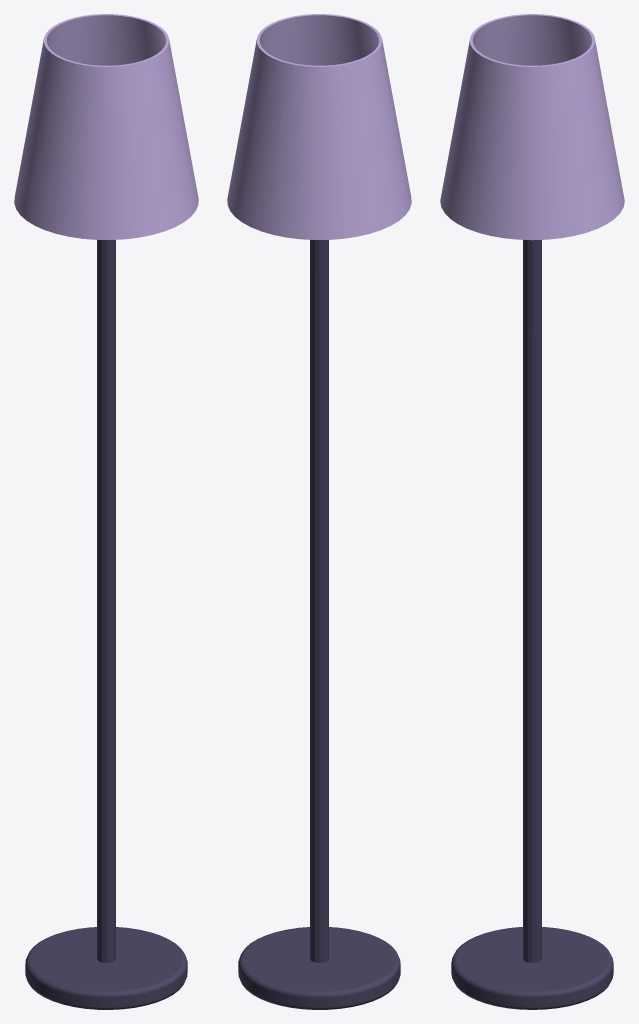
The model's file is floor_lamp.glb.
3 views of the same model, side by side, from view 1: azimuth 30°, elevation 25°; view 2: azimuth 150°, elevation 25°; view 3: azimuth 270°, elevation 25° (orthographic).
Parts seen in each view (by area): view 1: floor_lamp; view 2: floor_lamp; view 3: floor_lamp.
Part boxes in pixels (<box>): floor_lamp: <box>14,14,198,1009</box>; floor_lamp: <box>227,14,411,1009</box>; floor_lamp: <box>440,14,624,1009</box>.
Bounding box in the file's own units: 0.25 × 1.4 × 0.25.
